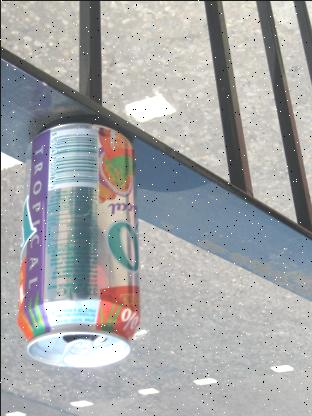Can: (12, 116, 140, 372)
